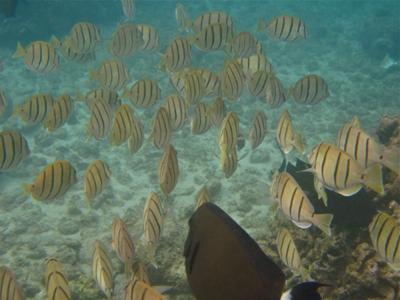Acanthuridae -Surgeonfishes-: (180, 200, 286, 298), (304, 139, 389, 198), (271, 171, 335, 238), (332, 121, 399, 172), (19, 159, 79, 205), (10, 36, 65, 78), (139, 191, 166, 269), (107, 215, 140, 278), (275, 226, 311, 282), (366, 208, 399, 269), (80, 160, 115, 216), (87, 237, 119, 297), (9, 93, 61, 126), (254, 14, 313, 43), (115, 76, 166, 109), (285, 74, 337, 106), (185, 22, 240, 52), (40, 252, 75, 299), (88, 57, 136, 91), (107, 102, 140, 150), (40, 92, 75, 136), (216, 111, 243, 167), (84, 95, 114, 145), (154, 143, 182, 196), (219, 56, 250, 102), (106, 20, 145, 56), (273, 108, 303, 154), (158, 35, 192, 74), (63, 20, 103, 53), (147, 107, 173, 150), (263, 74, 289, 110), (121, 280, 166, 299)
